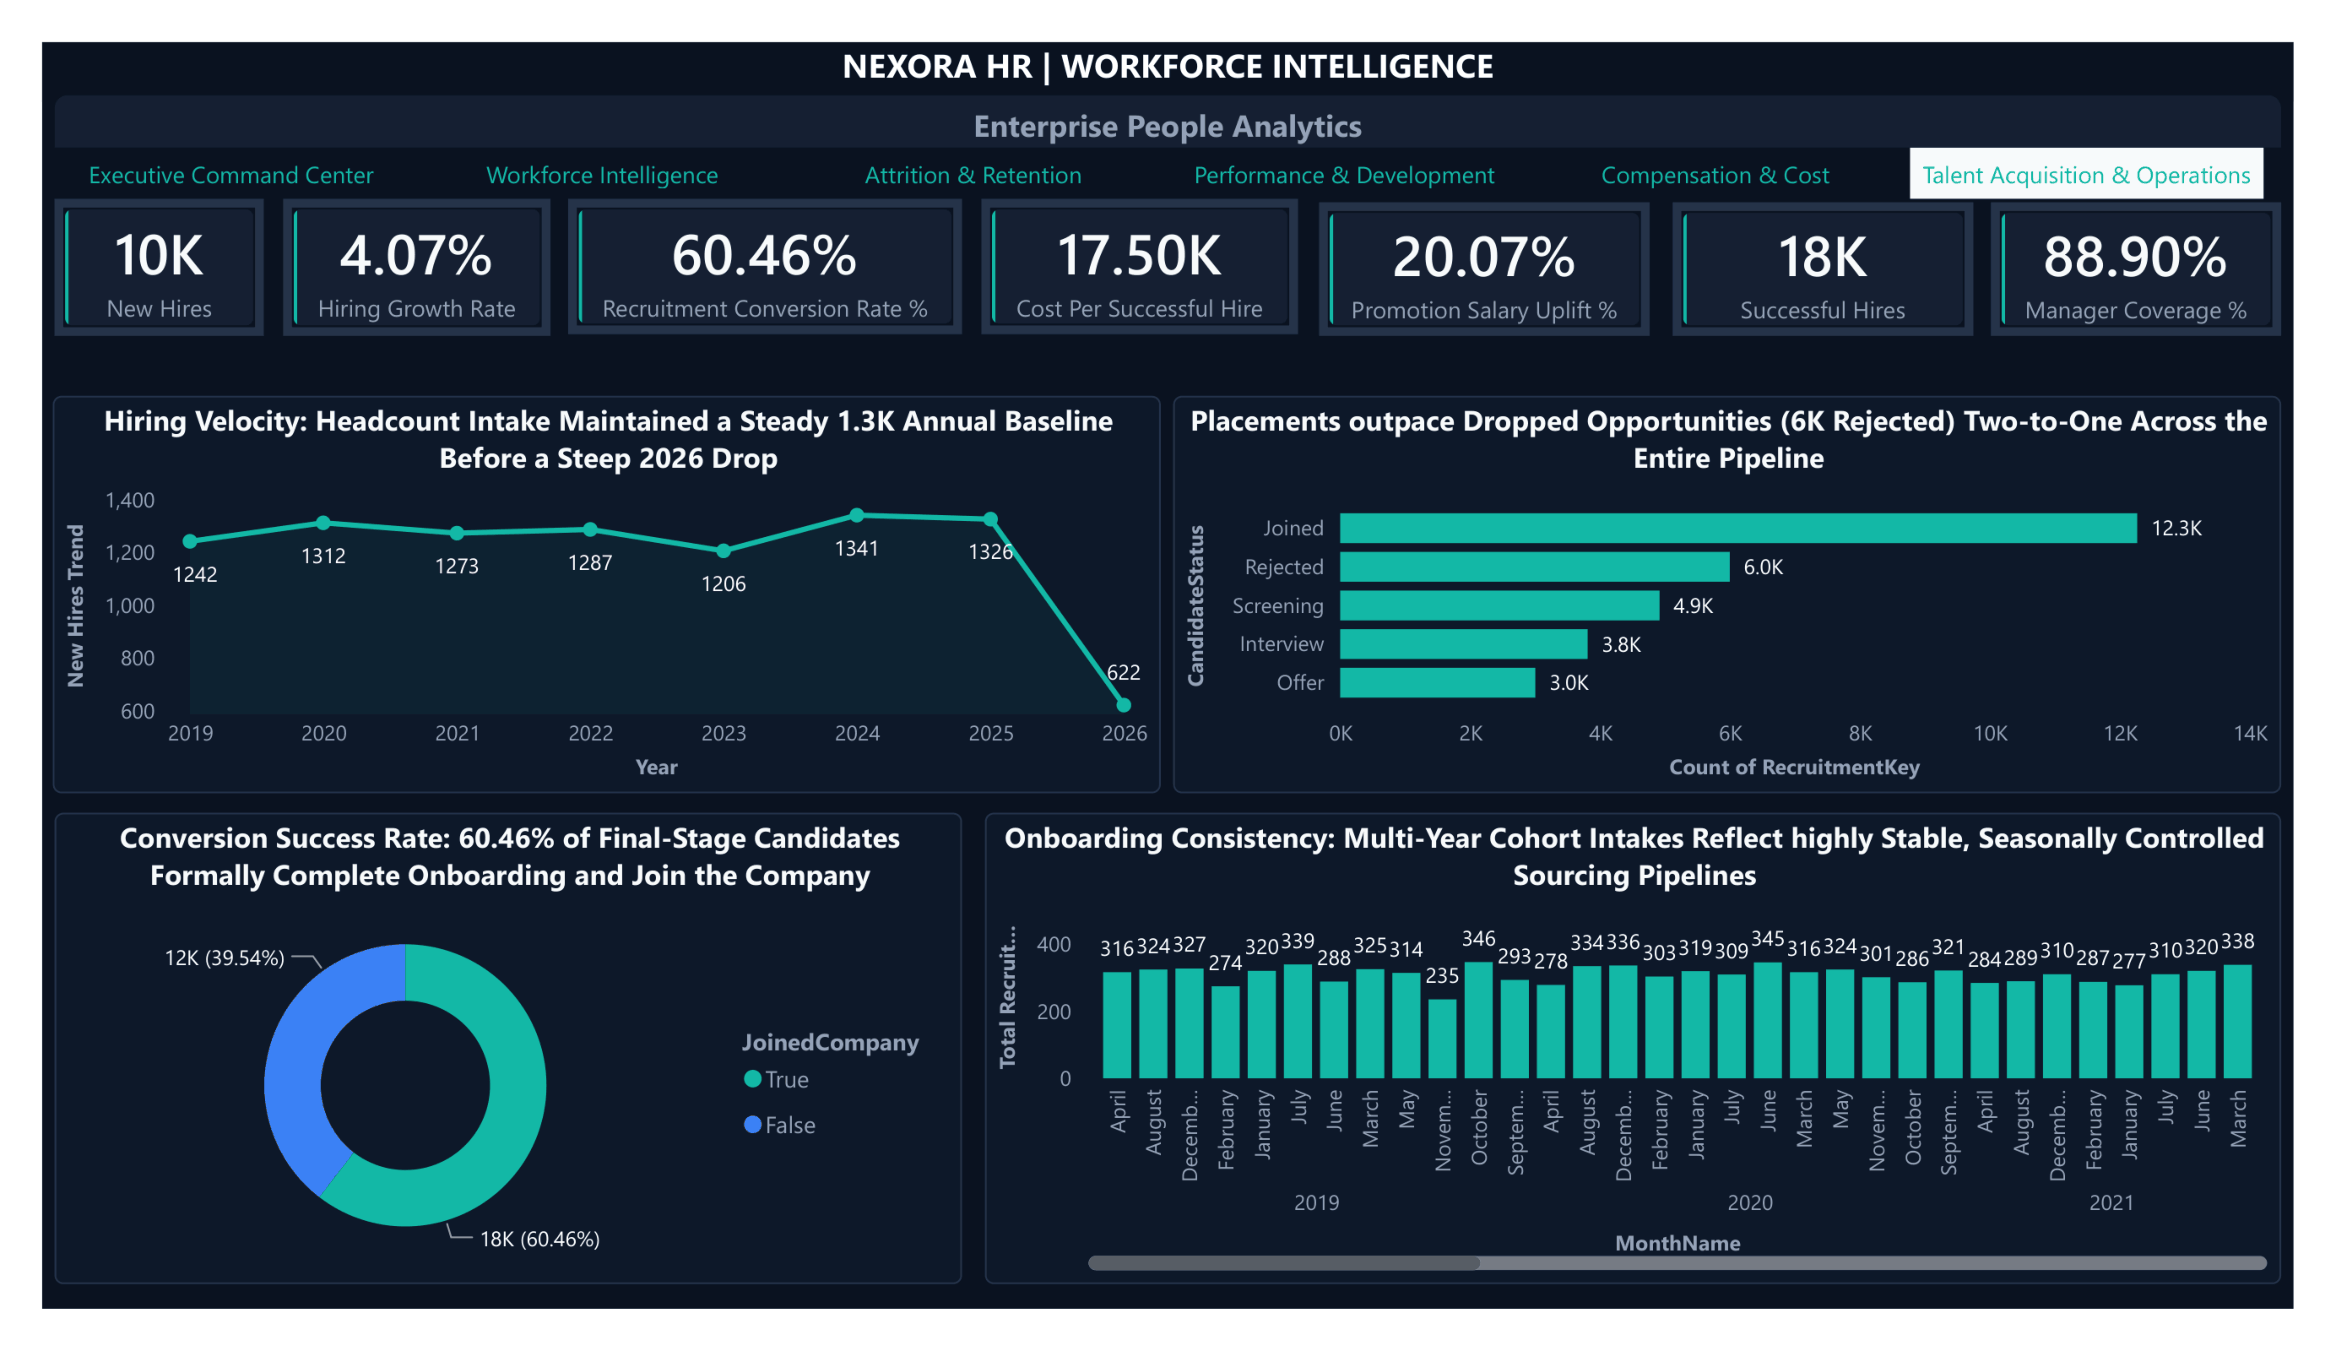

The dashboard page shown, as its layout file describes it:
{"tool":"powerbi","page":{"name":"Talent Acquisition & Operations","canvas":[1280,720],"ordinal":5},"visuals":[{"type":"shape","title":"NEXORA HR | WORKFORCE INTELLIGENCE","box":[7.1,0,1265.7,60],"z":0},{"type":"pageNavigator","box":[7.1,59.5,1255.7,29.8],"z":1000},{"type":"cardVisual","fields":{"Data":["_Measures.New Hires"]},"box":[7.1,89.3,119.1,78],"z":2000},{"type":"cardVisual","fields":{"Data":["_Measures.Hiring Growth Rate"]},"box":[136.7,88.7,151.9,78.2],"z":3000},{"type":"cardVisual","fields":{"Data":["_Measures.Recruitment Conversion Rate %"]},"box":[298.7,89,223.9,77.5],"z":4000},{"type":"cardVisual","fields":{"Data":["_Measures.Cost Per Successful Hire"]},"box":[534.3,89.3,180,76.5],"z":5000},{"type":"cardVisual","fields":{"Data":["_Measures.Promotion Salary Uplift %"]},"box":[725.7,90.7,188.5,76.5],"z":6000},{"type":"cardVisual","fields":{"Data":["_Measures.Successful Hires"]},"box":[926.9,90.7,171.5,76.5],"z":7000},{"type":"cardVisual","fields":{"Data":["_Measures.Manager Coverage %"]},"box":[1108.3,90.7,164.4,76.5],"z":8000},{"type":"clusteredBarChart","title":"Placements outpace Dropped Opportunities (6K Rejected) Two-to-One Across the Entire Pipeline","fields":{"Category":["FactRecruitment.CandidateStatus"],"Y":["CountNonNull(FactRecruitment.RecruitmentKey)"]},"box":[643.5,201.3,629.3,225.4],"z":10000},{"type":"clusteredColumnChart","title":"Onboarding Consistency: Multi-Year Cohort Intakes Reflect highly Stable, Seasonally Controlled Sourcing Pipelines","fields":{"Category":["DimDate.FullDate.Variation.Date Hierarchy.Year","DimDate.MonthName"],"Y":["CountNonNull(FactRecruitment.RecruitmentKey)"]},"box":[535.7,438,737,267.9],"z":11000},{"type":"donutChart","title":"Conversion Success Rate: 60.46% of Final-Stage Candidates Formally Complete Onboarding and Join the Company","fields":{"Category":["FactRecruitment.JoinedCompany"],"Y":["_Measures.Recruitment Records"]},"box":[7.1,438,515.9,267.9],"z":12000},{"type":"lineChart","title":"Hiring Velocity: Headcount Intake Maintained a Steady 1.3K Annual Baseline Before a Steep 2026 Drop","fields":{"Category":["Movement Date.Date.Variation.Date Hierarchy.Year"],"Y":["_Measures.New Hires Trend"]},"box":[6,200.9,629.6,226.2],"z":13000}]}

Visuals, with their boxes in screenshot pixels (x1, y1, x2, y2), scaled from the page's 1280x720 canvas onto the 2336x1351 screenshot:
"NEXORA HR | WORKFORCE INTELLIGENCE" shape: box(13, 0, 2323, 113)
pageNavigator: box(13, 112, 2305, 168)
cardVisual - _Measures.New Hires: box(13, 168, 230, 314)
cardVisual - _Measures.Hiring Growth Rate: box(249, 166, 527, 313)
cardVisual - _Measures.Recruitment Conversion Rate %: box(545, 167, 954, 312)
cardVisual - _Measures.Cost Per Successful Hire: box(975, 168, 1304, 311)
cardVisual - _Measures.Promotion Salary Uplift %: box(1324, 170, 1668, 314)
cardVisual - _Measures.Successful Hires: box(1692, 170, 2005, 314)
cardVisual - _Measures.Manager Coverage %: box(2023, 170, 2323, 314)
"Placements outpace Dropped Opportunities (6K Rejected) Two-to-One Across the Entire Pipeline" clusteredBarChart: box(1174, 378, 2323, 801)
"Onboarding Consistency: Multi-Year Cohort Intakes Reflect highly Stable, Seasonally Controlled Sourcing Pipelines" clusteredColumnChart: box(978, 822, 2323, 1325)
"Conversion Success Rate: 60.46% of Final-Stage Candidates Formally Complete Onboarding and Join the Company" donutChart: box(13, 822, 954, 1325)
"Hiring Velocity: Headcount Intake Maintained a Steady 1.3K Annual Baseline Before a Steep 2026 Drop" lineChart: box(11, 377, 1160, 801)
